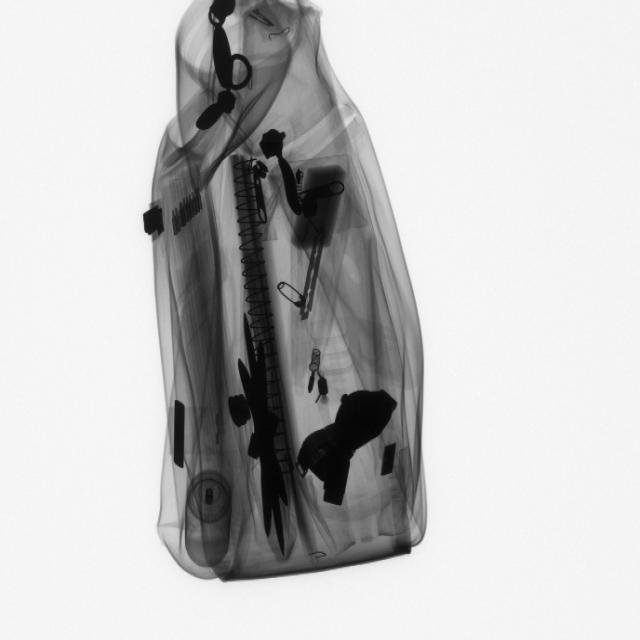SHURIKEN: (238, 293, 300, 564)
